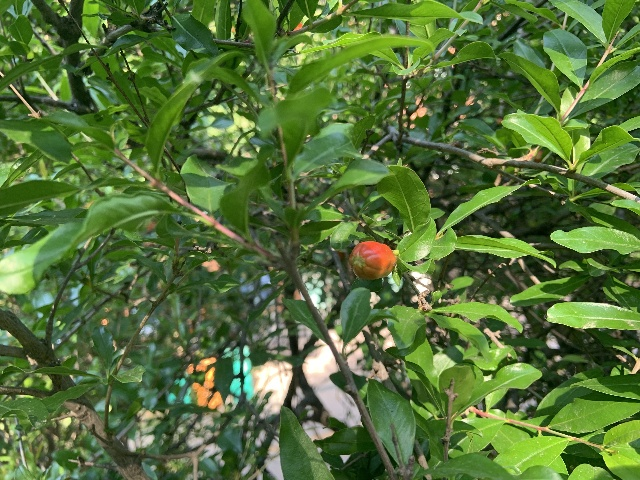bud: (349, 240, 395, 279)
